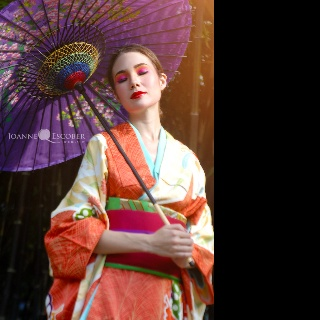without_mask: (111, 53, 163, 110)
